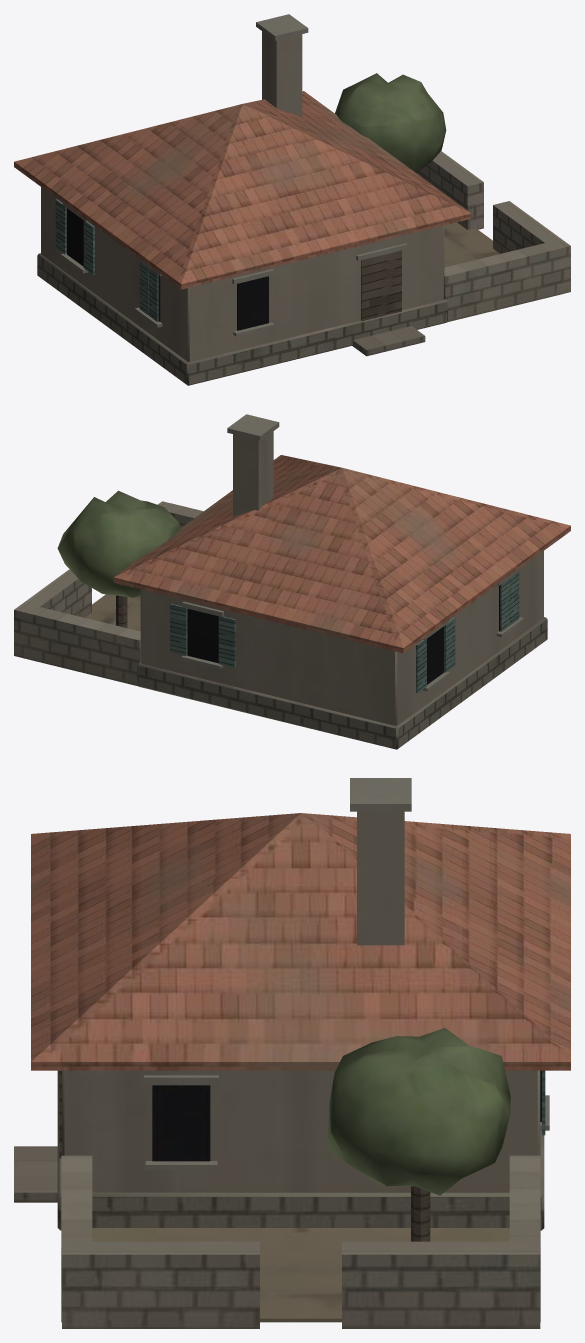
File: a19_house_8.glb
3 views of the same model, one above another, from view 1: azimuth 30°, elevation 25°; view 2: azimuth 150°, elevation 25°; view 3: azimuth 270°, elevation 25° (orthographic). The views are drawn at different scales.
Visible parts, largest first — view 1: body; view 2: body; view 3: body.
Boxes of the visible parts, box(x1,y1,x2,y2) form: body: box(14, 14, 570, 385); body: box(14, 414, 570, 749); body: box(14, 778, 570, 1328).
Size of the model in its own units: 1 by 0.5766 by 0.7494.
1 material, 1 textured.
